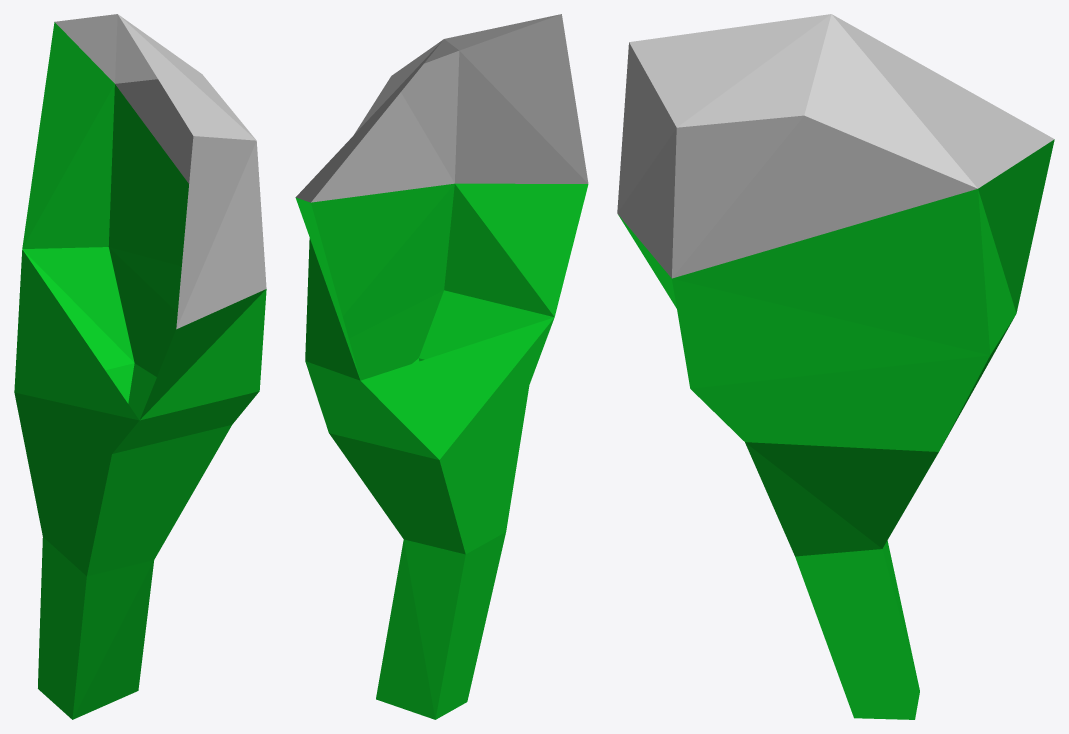
Rendered from cochon_test_separate.dae.
3 views of the same model, side by side, from view 1: azimuth 30°, elevation 25°; view 2: azimuth 150°, elevation 25°; view 3: azimuth 270°, elevation 25° (orthographic). The views are drawn at different scales.
Parts seen in each view (by area): view 1: Cube, Cube_001; view 2: Cube, Cube_001; view 3: Cube, Cube_001.
Boxes of the visible parts, x1,y1,x2,y2 form: Cube: (14,22,266,719); Cube_001: (54,14,266,329); Cube: (295,183,588,719); Cube_001: (295,14,588,202); Cube: (618,139,1054,719); Cube_001: (617,14,1054,278).
Bounding box in the file's own units: 0.7718 × 2.45 × 4.32.
